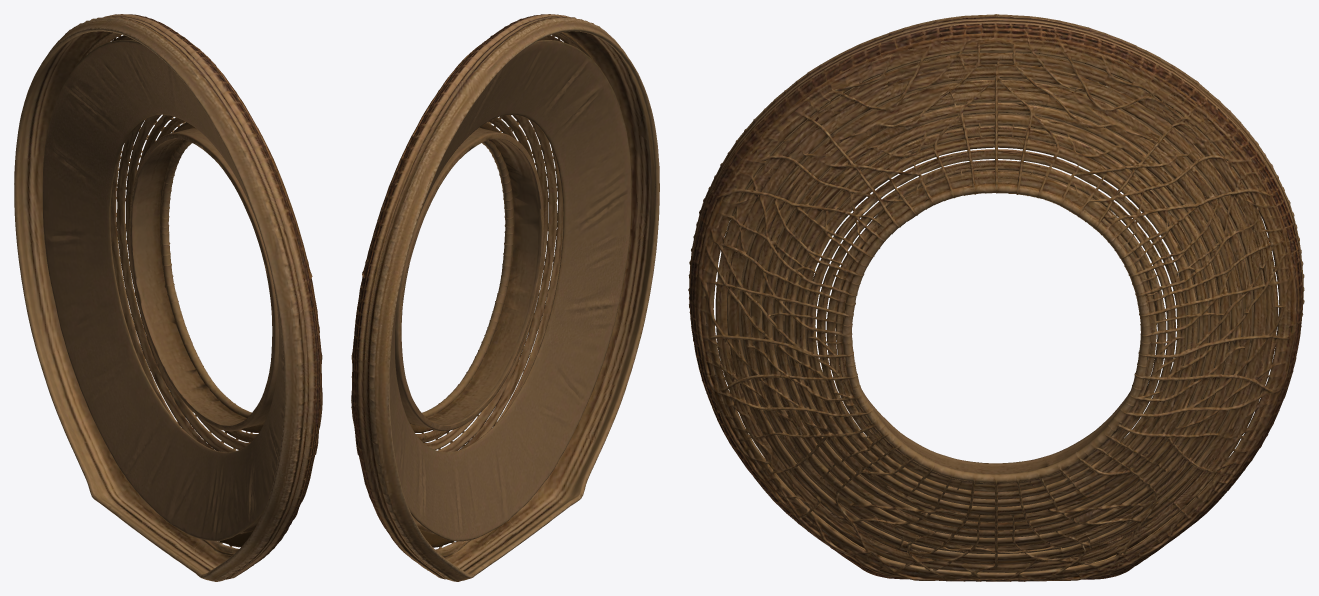
The model's file is art_ring.glb.
3 renders of one model, left to right at view 1: azimuth 30°, elevation 25°; view 2: azimuth 150°, elevation 25°; view 3: azimuth 270°, elevation 25°, orthographic. The views are drawn at different scales.
Visible parts, largest first — view 1: tripo_node_e8bf0414-7faf-4a59-957a-ba86b8dec961; view 2: tripo_node_e8bf0414-7faf-4a59-957a-ba86b8dec961; view 3: tripo_node_e8bf0414-7faf-4a59-957a-ba86b8dec961.
Part boxes in pixels (<box>): tripo_node_e8bf0414-7faf-4a59-957a-ba86b8dec961: <box>14,14,322,581</box>; tripo_node_e8bf0414-7faf-4a59-957a-ba86b8dec961: <box>351,14,659,581</box>; tripo_node_e8bf0414-7faf-4a59-957a-ba86b8dec961: <box>688,14,1304,581</box>.
Bounding box in the file's own units: 0.1112 × 0.6 × 0.5994.
Materials: 1 (1 with a texture image).
